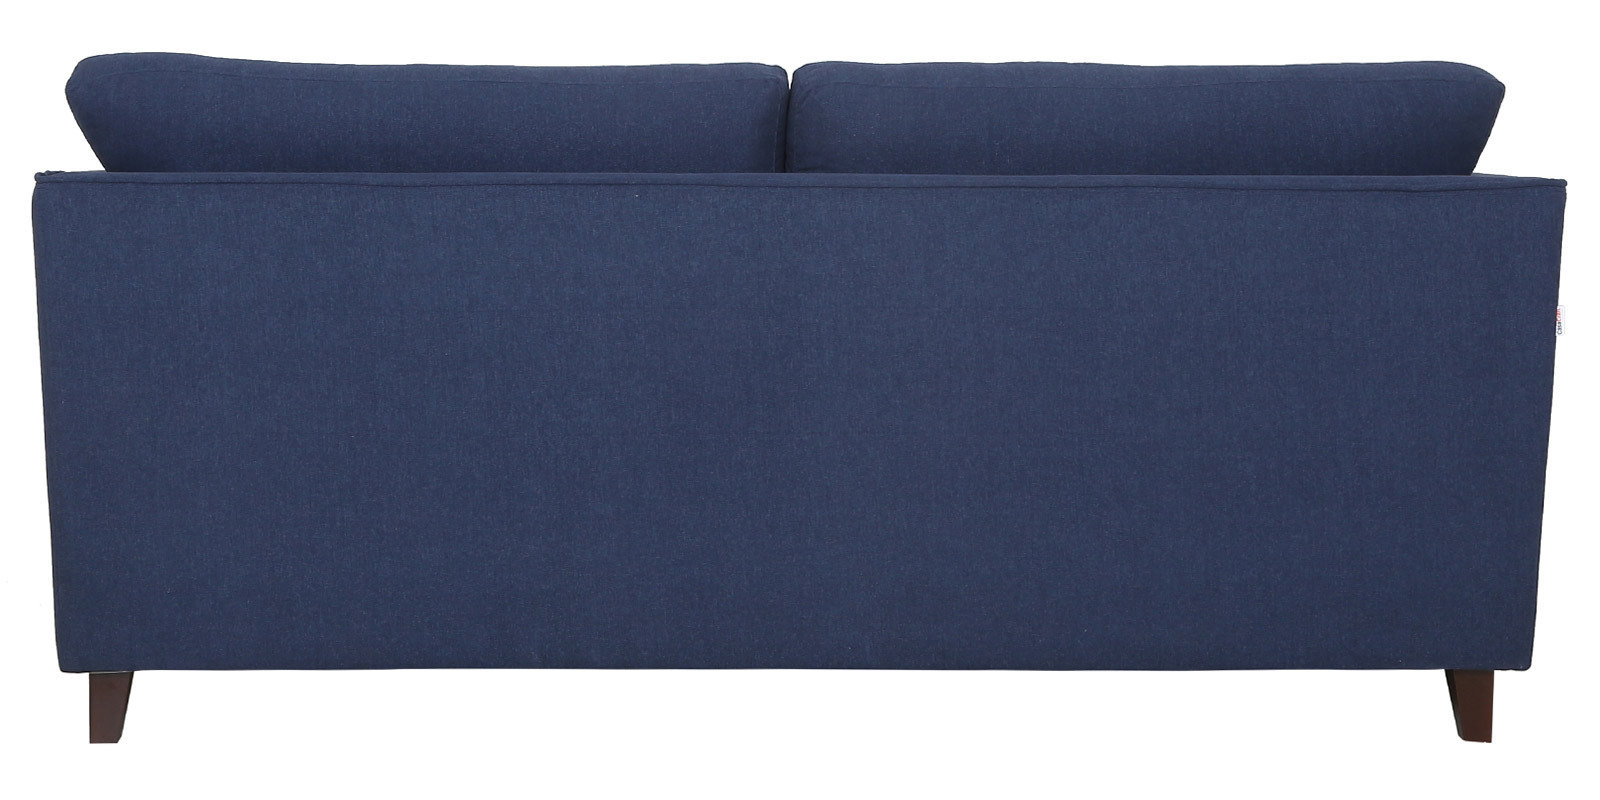Miranda Three Seater Sofa in Navy Blue Colour by CasaCraft: (28, 52, 1572, 741)
